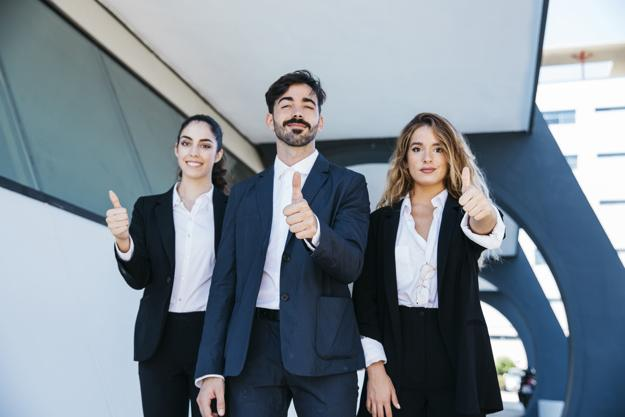thumbsup: (283, 171, 317, 239), (459, 166, 492, 220), (106, 190, 129, 236)
